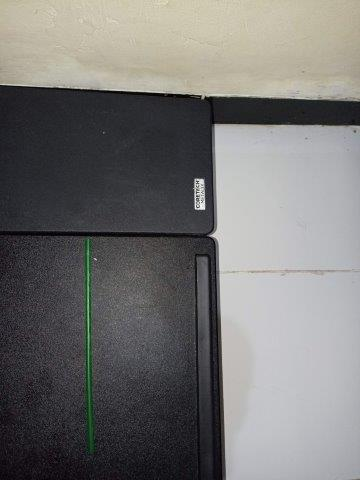sedotan: (84, 239, 95, 455)
